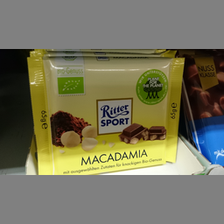chocolate: (25, 55, 182, 175)
